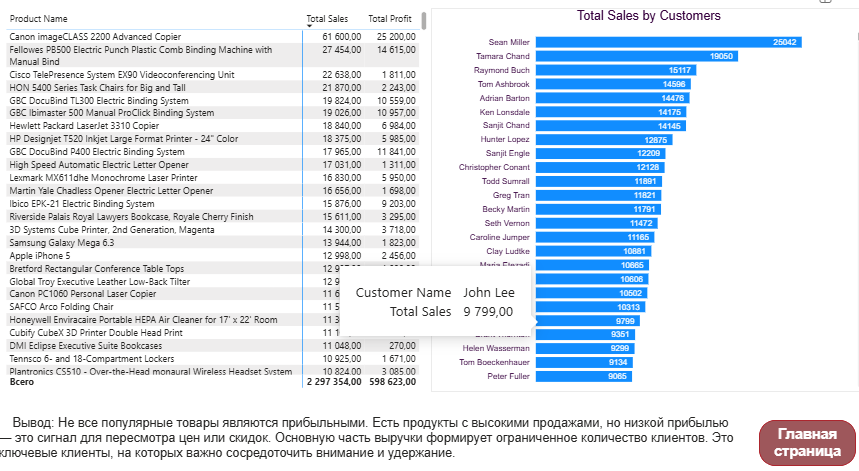

Layout of this report page (visuals, bound fields, positions):
{"tool":"powerbi","page":{"name":"Продукты и Клиенты","canvas":[1280,720],"ordinal":3},"visuals":[{"type":"clusteredBarChart","title":"Total Sales by Customers","fields":{"Category":["Sample.Customer Name"],"Y":["Sample.Total Sales"]},"box":[640.1,30.1,640.1,562.9],"z":0},{"type":"pivotTable","fields":{"Rows":["Sample.Product Name"],"Values":["Sample.Total Sales","Sample.Total Profit"]},"box":[11.8,30.1,628.4,562.9],"z":1000},{"type":"textbox","box":[0,623,1093.2,79.3],"z":2000},{"type":"actionButton","box":[1122.6,634.8,142.5,67.6],"z":3000}]}

Visuals, with their boxes in screenshot pixels (x1, y1, x2, y2), scaled from the page's 1280x720 canvas onto the 859x471 screenshot:
"Total Sales by Customers" clusteredBarChart: bbox(430, 20, 858, 388)
pivotTable - Sample.Product Name x Sample.Total Sales: bbox(8, 20, 430, 388)
textbox: bbox(0, 408, 734, 459)
actionButton: bbox(753, 415, 849, 459)
